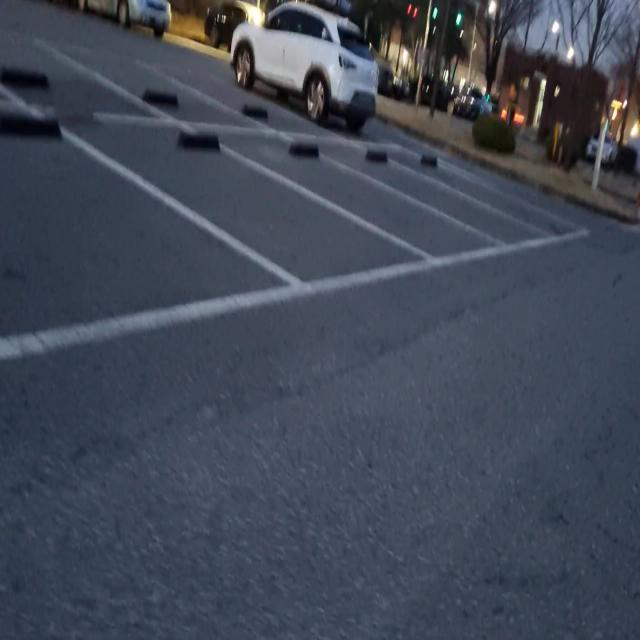empty: (45, 106, 428, 298), (190, 120, 505, 286), (280, 124, 554, 254), (374, 140, 592, 248)
